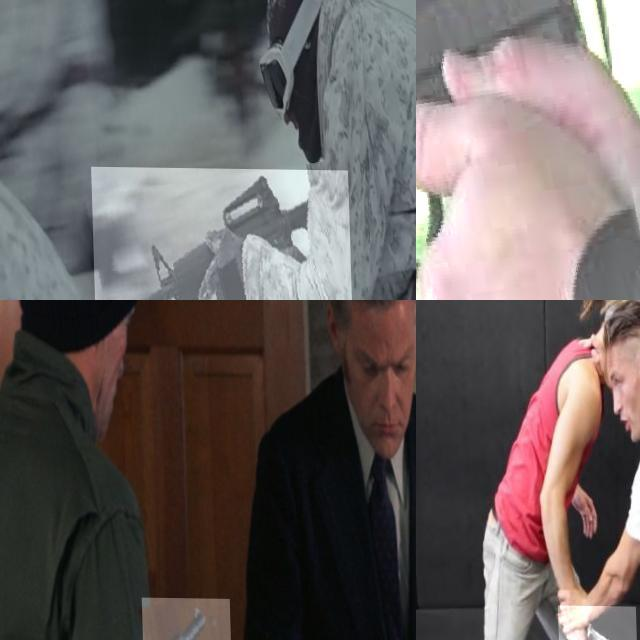-: (555, 604, 635, 640)
gun-knife-thesis - v11 Yolov5 augmented: (416, 0, 640, 300), (89, 166, 351, 300), (138, 596, 230, 640)
